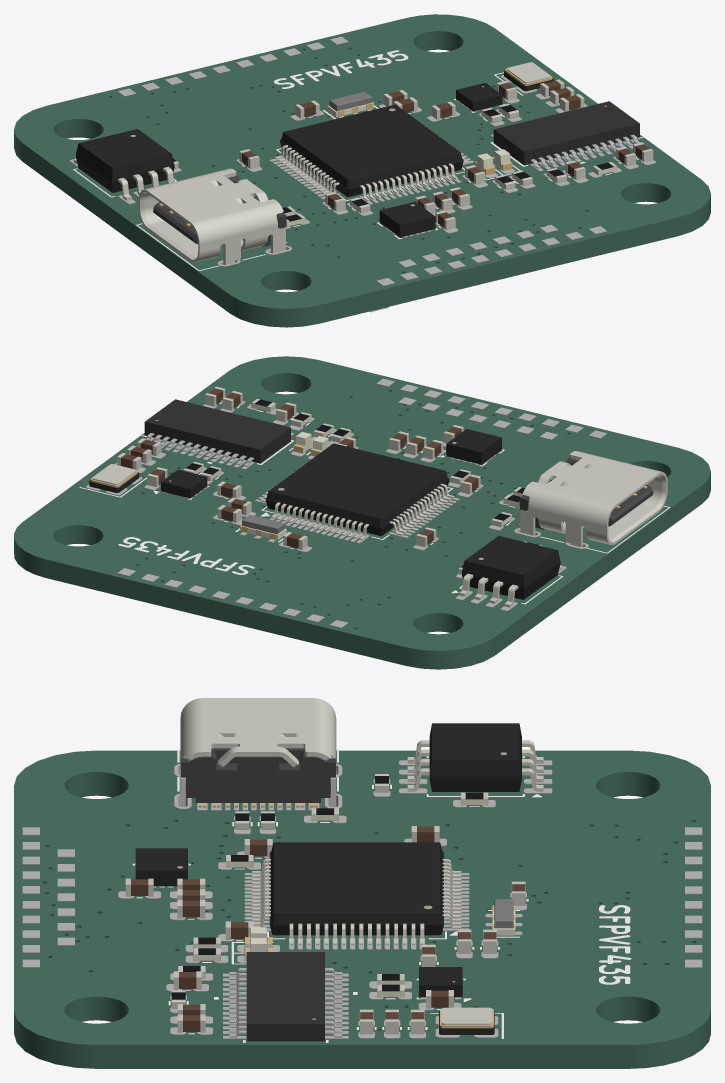
The picture shows the model from 3 angles, top to bottom: view 1: azimuth 30°, elevation 25°; view 2: azimuth 150°, elevation 25°; view 3: azimuth 270°, elevation 25°; orthographic projection. The views are drawn at different scales.
Bounding box in the file's own units: 0.04 × 0.00659 × 0.04.
